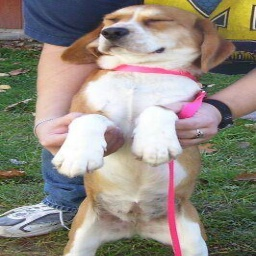dog: (50, 4, 221, 256)
